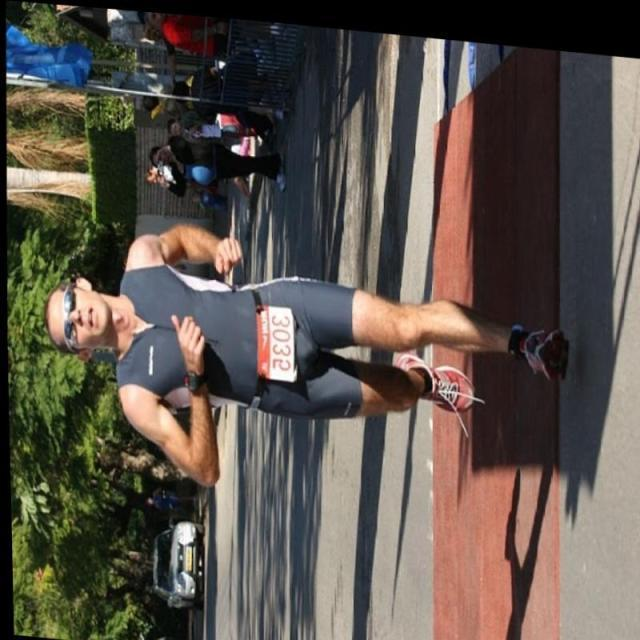dorsal: (248, 289, 302, 394)
